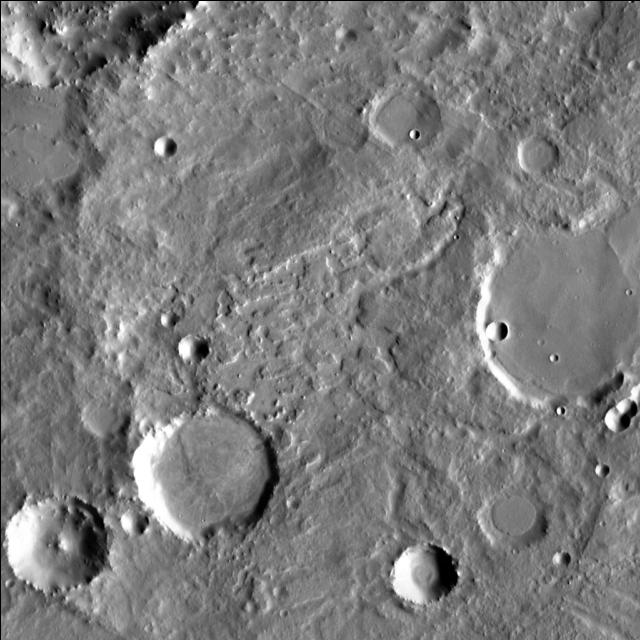crater: (468, 217, 640, 410), (136, 404, 276, 540), (0, 60, 100, 206), (5, 493, 106, 593), (369, 82, 439, 150), (478, 486, 544, 552), (390, 542, 455, 606), (82, 392, 130, 440), (514, 132, 558, 174), (561, 0, 604, 32), (177, 334, 207, 364), (117, 508, 147, 538), (602, 405, 628, 431), (152, 136, 174, 158), (614, 397, 635, 417), (484, 320, 504, 340), (552, 548, 568, 566), (158, 311, 176, 327), (592, 460, 608, 476), (285, 495, 299, 509), (270, 584, 284, 598), (626, 61, 636, 71), (405, 129, 415, 139), (553, 406, 563, 416), (332, 41, 342, 51), (1, 579, 10, 587), (546, 354, 554, 362), (142, 624, 150, 632), (277, 609, 285, 617), (331, 282, 338, 290), (451, 368, 458, 376), (542, 331, 548, 337)
